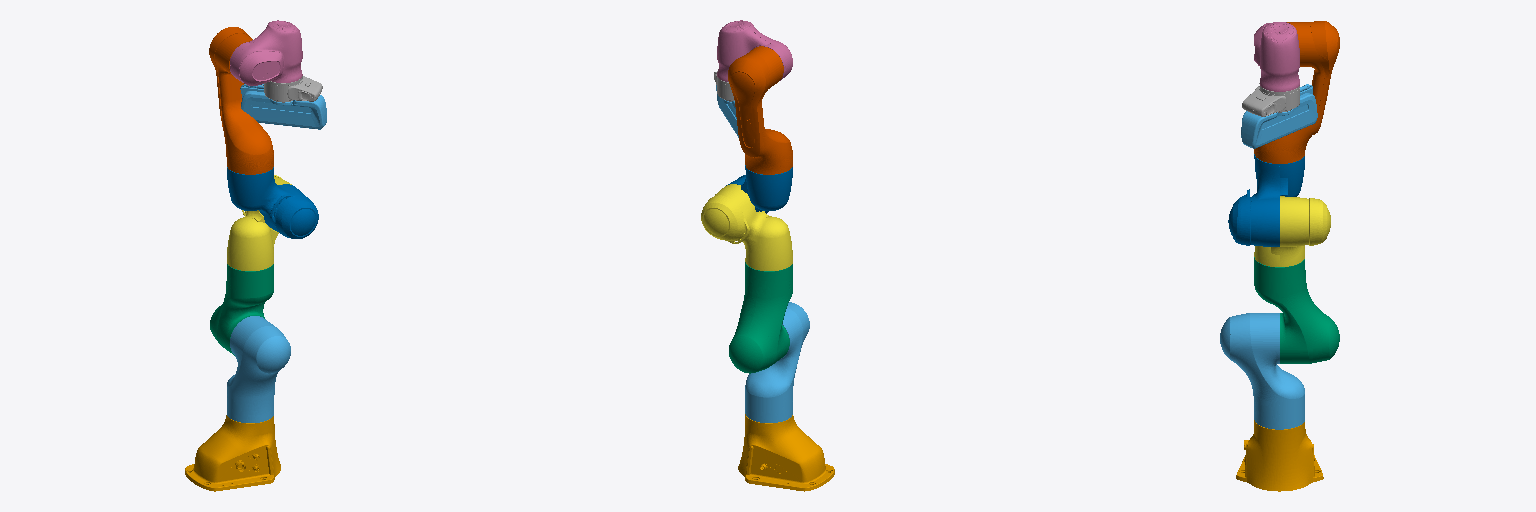
The robot description file, URDF, robot "panda":
<?xml version="1.0" ?>
<robot name="panda" xmlns:xacro="http://www.ros.org/wiki/xacro">
    <link name="panda_link0">
        <visual>
            <geometry>
                <mesh filename="package://robot_description/meshes/panda_description/visual/link0_visual.stl" />
            </geometry>
        </visual>
        <collision>
            <geometry>
                <mesh filename="package://robot_description/meshes/panda_description/collision/link0.stl" />
            </geometry>
        </collision>
        <inertial>
          <origin xyz="-0.041018 -0.00014 0.049974" rpy="0 0 0" />
          <mass value="0.629769"/>
          <inertia ixx="0.00315" iyy="0.00388" izz="0.004285" ixy="8.2904E-7" ixz="0.00015" iyz="8.2299E-6"/>
        </inertial>
    </link>
    <link name="panda_link1">
        <visual>
            <geometry>
                <mesh filename="package://robot_description/meshes/panda_description/visual/link1_visual.stl" />
            </geometry>
        </visual>
        <collision>
            <geometry>
                <mesh filename="package://robot_description/meshes/panda_description/collision/link1.stl" />
            </geometry>
        </collision>
        <inertial>
          <origin xyz="0.003875 0.002081 -0.04762" rpy="0 0 0" />
          <mass value="4.970684"/>
          <inertia ixx="0.70337" iyy="0.70661" izz="0.009117" ixy="-0.000139" ixz="0.006772" iyz="0.019169"/>
        </inertial>
    </link>
    <joint name="panda_joint1" type="revolute">
        <safety_controller k_position="100.0" k_velocity="40.0" soft_lower_limit="-2.8973" soft_upper_limit="2.8973" />
        <origin rpy="0 0 0" xyz="0 0 0.333" />
        <parent link="panda_link0" />
        <child link="panda_link1" />
        <axis xyz="0 0 1" />
        <limit effort="87" lower="-2.9671" upper="2.9671" velocity="2.3925" />
    </joint>
    <link name="panda_link2">
        <visual>
            <geometry>
                <mesh filename="package://robot_description/meshes/panda_description/visual/link2_visual.stl" />
            </geometry>
        </visual>
        <collision>
            <geometry>
                <mesh filename="package://robot_description/meshes/panda_description/collision/link2.stl" />
            </geometry>
        </collision>
        <inertial>
          <origin xyz="-0.003141 -0.02872  0.003495" rpy="0 0 0" />
          <mass value="0.646926"/>
          <inertia ixx="0.007962" iyy="2.811E-2" izz="2.5995E-2" ixy="-3.925E-3" ixz="1.0254E-2" iyz="7.04E-4"/>
        </inertial>
    </link>
    <joint name="panda_joint2" type="revolute">
        <safety_controller k_position="100.0" k_velocity="40.0" soft_lower_limit="-1.7628" soft_upper_limit="1.7628" />
        <origin rpy="-1.57079632679 0 0" xyz="0 0 0" />
        <parent link="panda_link1" />
        <child link="panda_link2" />
        <axis xyz="0 0 1" />
        <limit effort="87" lower="-1.8326" upper="1.8326" velocity="2.3925" />
    </joint>
    <link name="panda_link3">
        <visual>
            <geometry>
                <mesh filename="package://robot_description/meshes/panda_description/visual/link3_visual.stl" />
            </geometry>
        </visual>
        <collision>
            <geometry>
                <mesh filename="package://robot_description/meshes/panda_description/collision/link3.stl" />
            </geometry>
        </collision>
        <inertial>
          <origin xyz="2.7518E-2 3.9252E-2 -6.6502E-2" rpy="0 0 0" />
          <mass value="3.228604"/>
          <inertia ixx="3.7242E-2" iyy="3.6155E-2" izz="1.083E-2" ixy="-4.761E-3" ixz="-1.1396E-2" iyz="-1.2805E-2"/>
        </inertial>
    </link>
    <joint name="panda_joint3" type="revolute">
        <safety_controller k_position="100.0" k_velocity="40.0" soft_lower_limit="-2.8973" soft_upper_limit="2.8973" />
        <origin rpy="1.57079632679 0 0" xyz="0 -0.316 0" />
        <parent link="panda_link2" />
        <child link="panda_link3" />
        <axis xyz="0 0 1" />
        <limit effort="87" lower="-2.9671" upper="2.9671" velocity="2.3925" />
    </joint>
    <link name="panda_link4">
        <visual>
            <geometry>
                <mesh filename="package://robot_description/meshes/panda_description/visual/link4_visual.stl" />
            </geometry>
        </visual>
        <collision>
            <geometry>
                <mesh filename="package://robot_description/meshes/panda_description/collision/link4.stl" />
            </geometry>
        </collision>
        <inertial>
          <origin xyz="-5.317E-2 1.04419E-1 2.7454E-2" rpy="0 0 0" />
          <mass value="3.587895"/>
          <inertia ixx="2.5853E-2" iyy="1.9552E-2" izz="2.8323E-2" ixy="7.796E-3" ixz="-1.332E-3" iyz="8.641E-3"/>
        </inertial>
    </link>
    <joint name="panda_joint4" type="revolute">
        <safety_controller k_position="100.0" k_velocity="40.0" soft_lower_limit="-3.0718" soft_upper_limit="0.0175" />
        <origin rpy="1.57079632679 0 0" xyz="0.0825 0 0" />
        <parent link="panda_link3" />
        <child link="panda_link4" />
        <axis xyz="0 0 1" />
        <limit effort="87" lower="-3.1416" upper="0.0873" velocity="2.3925" />
    </joint>
    <link name="panda_link5">
        <visual>
            <geometry>
                <mesh filename="package://robot_description/meshes/panda_description/visual/link5_visual.stl" />
            </geometry>
        </visual>
        <collision>
            <geometry>
                <mesh filename="package://robot_description/meshes/panda_description/collision/link5.stl" />
            </geometry>
        </collision>
        <inertial>
          <origin xyz="-1.1953E-2 4.1065E-2 -3.8437E-2" rpy="0 0 0" />
          <mass value="1.225946"/>
          <inertia ixx="3.5549E-2" iyy="2.9474E-2" izz="8.627E-3" ixy="-2.117E-3" ixz="-4.037E-3" iyz="2.29E-4"/>
        </inertial>
    </link>
    <joint name="panda_joint5" type="revolute">
        <safety_controller k_position="100.0" k_velocity="40.0" soft_lower_limit="-2.8973" soft_upper_limit="2.8973" />
        <origin rpy="-1.57079632679 0 0" xyz="-0.0825 0.384 0" />
        <parent link="panda_link4" />
        <child link="panda_link5" />
        <axis xyz="0 0 1" />
        <limit effort="12" lower="-2.9671" upper="2.9671" velocity="2.8710" />
    </joint>
    <link name="panda_link6">
        <visual>
            <geometry>
                <mesh filename="package://robot_description/meshes/panda_description/visual/link6_visual.stl" />
            </geometry>
        </visual>
        <collision>
            <geometry>
                <mesh filename="package://robot_description/meshes/panda_description/collision/link6.stl" />
            </geometry>
        </collision>
        <inertial>
          <origin xyz="6.0149E-2 -1.4117E-2 -1.0517E-2" rpy="0 0 0" />
          <mass value="1.666555"/>
          <inertia ixx="1.964E-3" iyy="4.354E-3" izz="5.433E-3" ixy="1.09E-4" ixz="-1.158E-3" iyz="3.41E-4"/>
        </inertial>
    </link>
    <joint name="panda_joint6" type="revolute">
        <safety_controller k_position="100.0" k_velocity="40.0" soft_lower_limit="-0.0175" soft_upper_limit="3.7525" />
        <origin rpy="1.57079632679 0 0" xyz="0 0 0" />
        <parent link="panda_link5" />
        <child link="panda_link6" />
        <axis xyz="0 0 1" />
        <limit effort="12" lower="-0.0873" upper="3.8223" velocity="2.8710" />
    </joint>
    <link name="panda_link7">
        <visual>
            <geometry>
                <mesh filename="package://robot_description/meshes/panda_description/visual/link7_visual.stl" />
            </geometry>
        </visual>
        <collision>
            <geometry>
                <mesh filename="package://robot_description/meshes/panda_description/collision/link7.stl" />
            </geometry>
        </collision>
         <inertial>
          <origin xyz="1.0517E-2 -4.252E-3 6.1597E-2" rpy="0 0 0" />
          <mass value="7.35522E-1"/>
          <inertia ixx="1.2516E-2" iyy="1.0027E-2" izz="4.815E-3" ixy="-4.28E-4" ixz="-1.19E-3" iyz="-7.41E-4"/>
        </inertial>
    </link>
    <joint name="panda_joint7" type="revolute">
        <safety_controller k_position="100.0" k_velocity="40.0" soft_lower_limit="-2.8973" soft_upper_limit="2.8973" />
        <origin rpy="1.57079632679 0 0" xyz="0.088 0 0" />
        <parent link="panda_link6" />
        <child link="panda_link7" />
        <axis xyz="0 0 1" />
        <limit effort="12" lower="-2.9671" upper="2.9671" velocity="2.8710" />
    </joint>
    <link name="panda_link8" />
    <joint name="panda_joint8" type="fixed">
        <origin rpy="0 0 0" xyz="0 0 0.107" />
        <parent link="panda_link7" />
        <child link="panda_link8" />
        <axis xyz="0 0 0" />
    </joint>
    <joint name="panda_hand_joint" type="fixed">
        <parent link="panda_link8" />
        <child link="panda_hand" />
        <origin rpy="0 0 -0.785398163397" xyz="0 0 0" />
    </joint>
    <link name="panda_hand">
        <visual>
            <geometry>
                <mesh filename="package://robot_description/meshes/panda_description/visual/hand_visual.stl" />
            </geometry>
        </visual>
        <collision>
            <geometry>
                <mesh filename="package://robot_description/meshes/panda_description/collision/hand.stl" />
            </geometry>
        </collision>
    </link>
    <link name="panda_leftfinger">
        <visual>
            <geometry>
                <mesh filename="package://robot_description/meshes/panda_description/visual/finger_visual.stl" />
            </geometry>
        </visual>
        <collision>
            <geometry>
                <mesh filename="package://robot_description/meshes/panda_description/collision/finger.stl" />
            </geometry>
        </collision>
    </link>
    <link name="panda_rightfinger">
        <visual>
            <origin rpy="0 0 3.14159265359" xyz="0 0 0" />
            <geometry>
                <mesh filename="package://robot_description/meshes/panda_description/visual/finger_visual.stl" />
            </geometry>
        </visual>
        <collision>
            <origin rpy="0 0 3.14159265359" xyz="0 0 0" />
            <geometry>
                <mesh filename="package://robot_description/meshes/panda_description/collision/finger.stl" />
            </geometry>
        </collision>
    </link>
    <joint name="panda_finger_joint1" type="prismatic">
        <parent link="panda_hand" />
        <child link="panda_leftfinger" />
        <origin rpy="0 0 0" xyz="0 0 0.0584" />
        <axis xyz="0 1 0" />
        <limit effort="20" lower="0.0" upper="0.04" velocity="0.2" />
    </joint>
    <joint name="panda_finger_joint2" type="prismatic">
        <parent link="panda_hand" />
        <child link="panda_rightfinger" />
        <origin rpy="0 0 0" xyz="0 0 0.0584" />
        <axis xyz="0 -1 0" />
        <limit effort="20" lower="0.0" upper="0.04" velocity="0.2" />
        <mimic joint="panda_finger_joint1" />
    </joint>
</robot>

--- Facts derived from the render (not from the file) ---
The picture shows the robot from 3 angles, left to right: view 1: azimuth 30°, elevation 25°; view 2: azimuth 150°, elevation 25°; view 3: azimuth 270°, elevation 25°; orthographic projection.
Robot: panda — 12 links, 11 joints (7 revolute, 2 prismatic, 2 fixed); root link panda_link0; default pose: all joints at 0.
Visible links, largest first — view 1: panda_link0, panda_link1, panda_link5, panda_link4, panda_link6, panda_link2, panda_link3, panda_hand, panda_link7; view 2: panda_link0, panda_link5, panda_link2, panda_link3, panda_link1, panda_link6, panda_link4; view 3: panda_link1, panda_link2, panda_link0, panda_link4, panda_link5, panda_link3, panda_link6, panda_hand, panda_link7.
Link boxes in pixels (bbox=[...]): panda_link0: bbox=[185, 415, 280, 491]; panda_link1: bbox=[227, 316, 290, 422]; panda_link5: bbox=[209, 27, 273, 174]; panda_link4: bbox=[227, 167, 318, 238]; panda_link6: bbox=[230, 20, 302, 85]; panda_link2: bbox=[210, 264, 273, 355]; panda_link3: bbox=[227, 175, 291, 270]; panda_hand: bbox=[240, 84, 326, 129]; panda_link7: bbox=[262, 76, 322, 102]; panda_link0: bbox=[738, 414, 834, 491]; panda_link5: bbox=[728, 46, 792, 174]; panda_link2: bbox=[729, 262, 792, 373]; panda_link3: bbox=[701, 184, 792, 270]; panda_link1: bbox=[745, 302, 809, 422]; panda_link6: bbox=[717, 20, 792, 81]; panda_link4: bbox=[726, 165, 792, 213]; panda_link1: bbox=[1220, 313, 1304, 429]; panda_link2: bbox=[1254, 257, 1339, 363]; panda_link0: bbox=[1236, 420, 1323, 491]; panda_link4: bbox=[1228, 154, 1304, 246]; panda_link5: bbox=[1254, 21, 1339, 163]; panda_link3: bbox=[1254, 196, 1330, 266]; panda_link6: bbox=[1254, 22, 1299, 91]; panda_hand: bbox=[1241, 84, 1317, 148]; panda_link7: bbox=[1242, 83, 1299, 116].
Bounding box of the posed robot: 0.3253 × 0.2593 × 1.11 m (x, y, z).
9 mesh visuals loaded from 10 distinct referenced files (9 binary STL); not drawn: 2 (reference not matched to a file when rendering).
